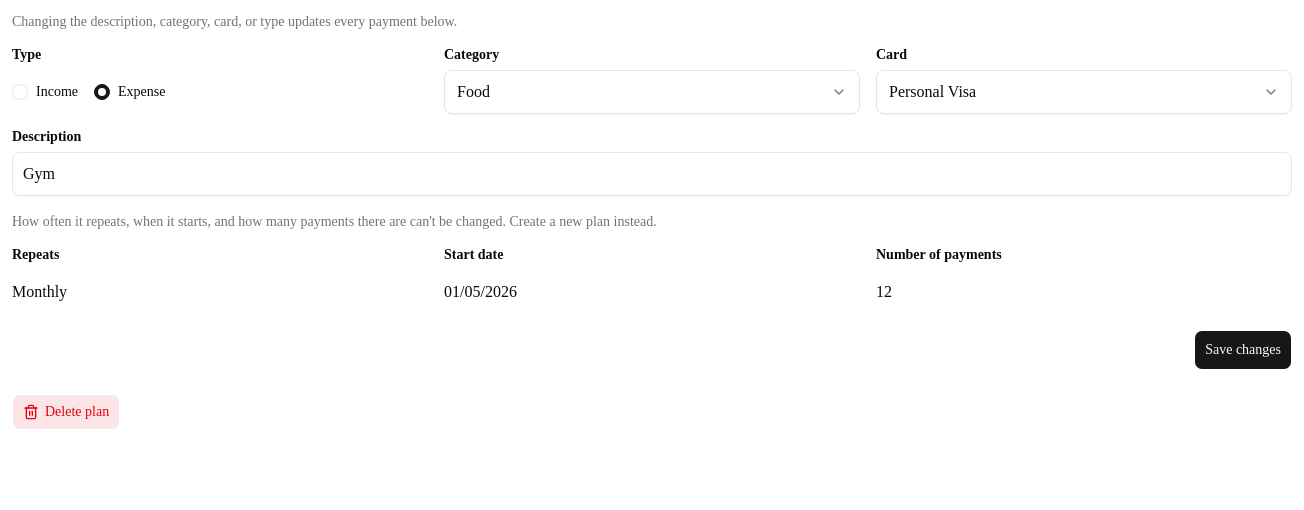
InstallmentSeriesForm › renders the action's error rather than a saved confirmation
Step 1. Click the button "Save changes" → [1243, 350], box [1194,330,1292,370]
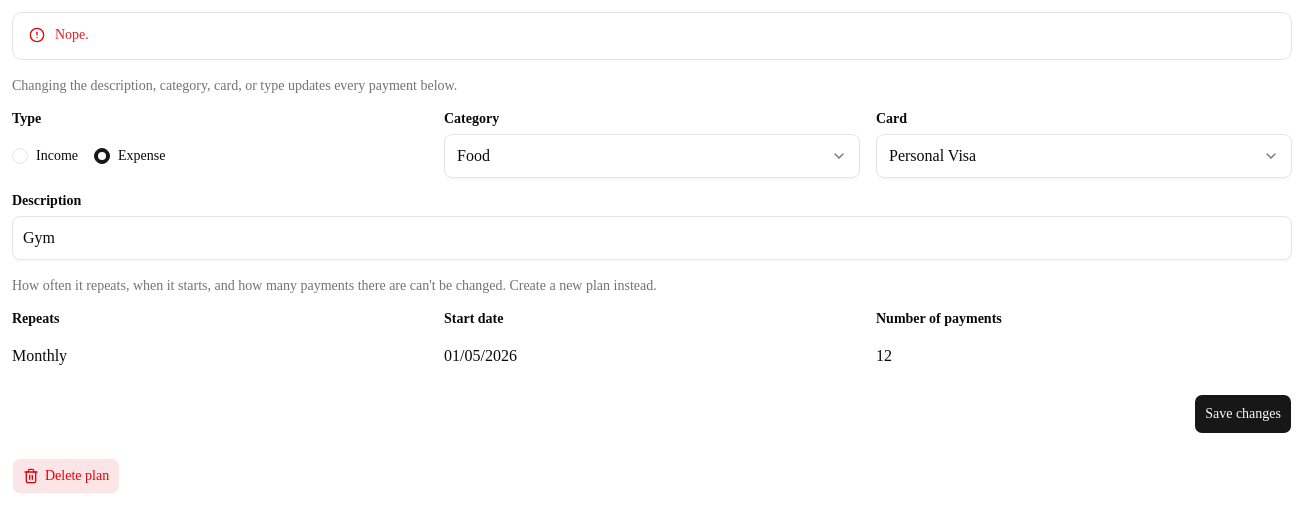
Result: the text "Nope." is shown at [55,27,89,42]
